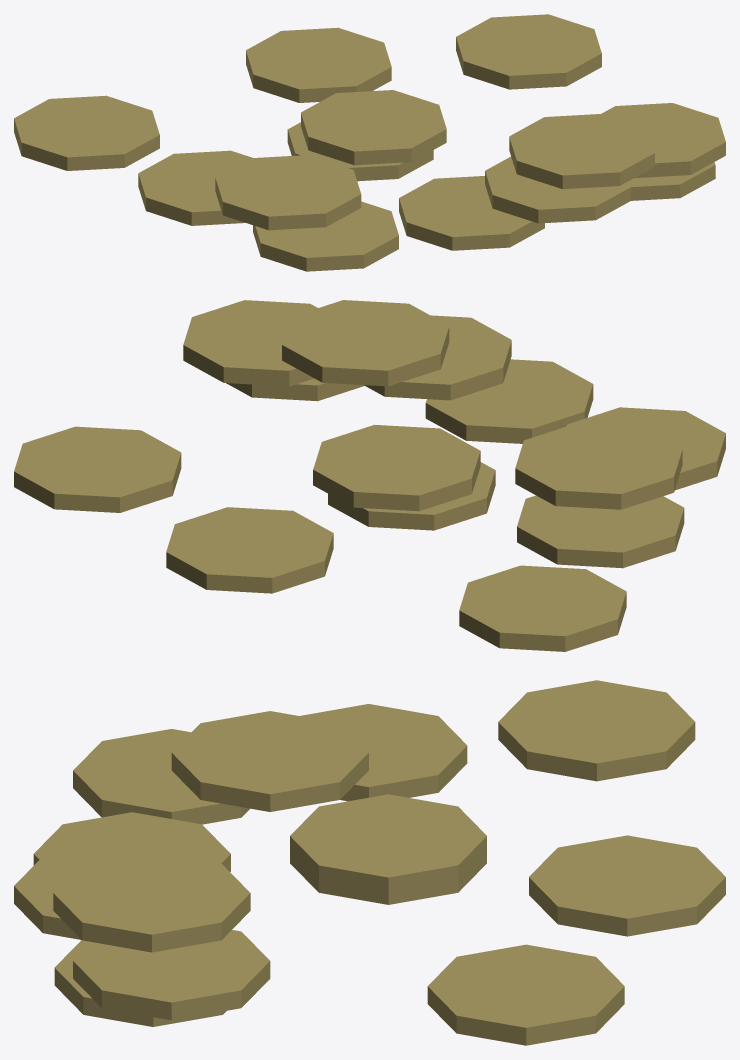
File: fantasy_coin_pile_1.fbx
The picture shows the model from 3 angles, top to bottom: view 1: azimuth 30°, elevation 25°; view 2: azimuth 150°, elevation 25°; view 3: azimuth 270°, elevation 25°; orthographic projection. The views are drawn at different scales.
Parts seen in each view (by area): view 1: Cylinder.036; view 2: Cylinder.036; view 3: Cylinder.036.
Boxes of the visible parts, box(x1,y1,x2,y2) form: Cylinder.036: box(14, 14, 725, 271); Cylinder.036: box(14, 300, 725, 651); Cylinder.036: box(14, 680, 725, 1045).
Size of the model in its own units: 41.73 by 3 by 36.12.
